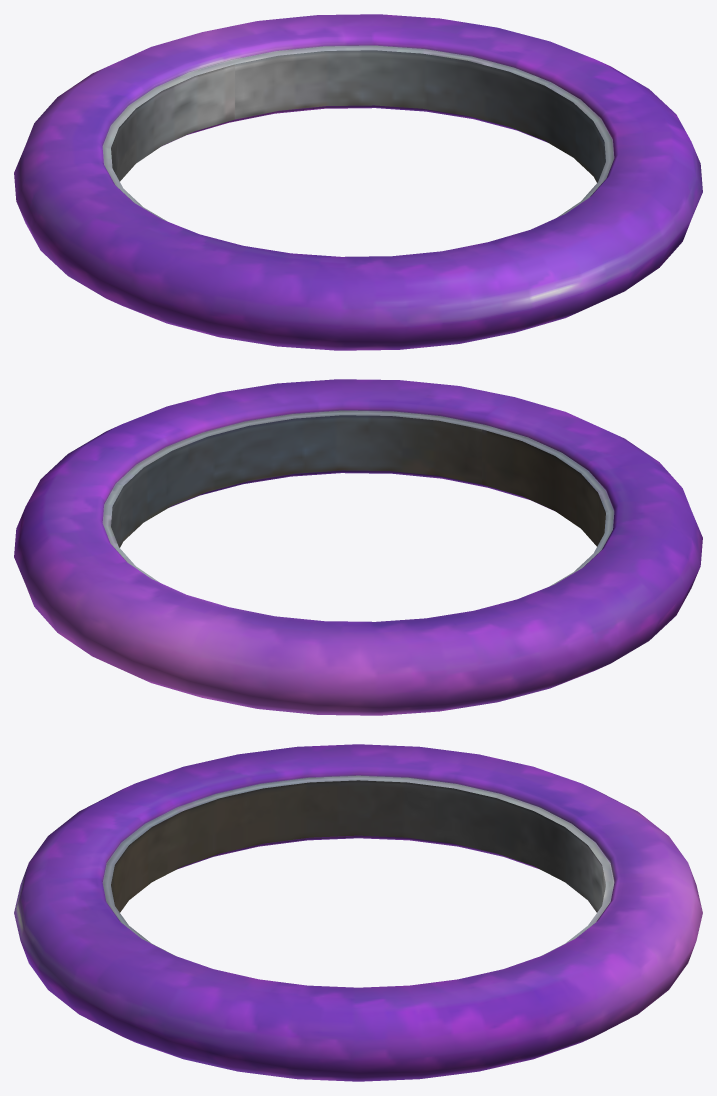
File: pref_fx_scoredouble_purple_dead_lv1.fbx
The picture shows the model from 3 angles, top to bottom: view 1: azimuth 30°, elevation 25°; view 2: azimuth 150°, elevation 25°; view 3: azimuth 270°, elevation 25°; orthographic projection.
Parts seen in each view (by area): view 1: sm_prop_platform06b_lv1; view 2: sm_prop_platform06b_lv1; view 3: sm_prop_platform06b_lv1.
Boxes of the visible parts, left/top/right/bottom form: sm_prop_platform06b_lv1: left=14, top=14, right=702, bottom=350; sm_prop_platform06b_lv1: left=14, top=379, right=702, bottom=715; sm_prop_platform06b_lv1: left=14, top=744, right=702, bottom=1081.
Size of the model in its own units: 1.72 by 0.1956 by 1.71.
